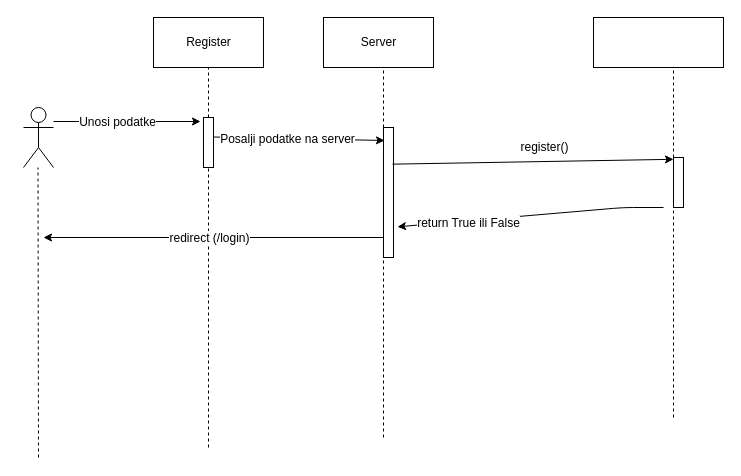
This 741x476 diagram has some shape labels left out. Here are the shapes that lost their labels. From the top down, the centre of each, then its label:
At (658,42): "models.py".
At (38,137): "Korisnik".
